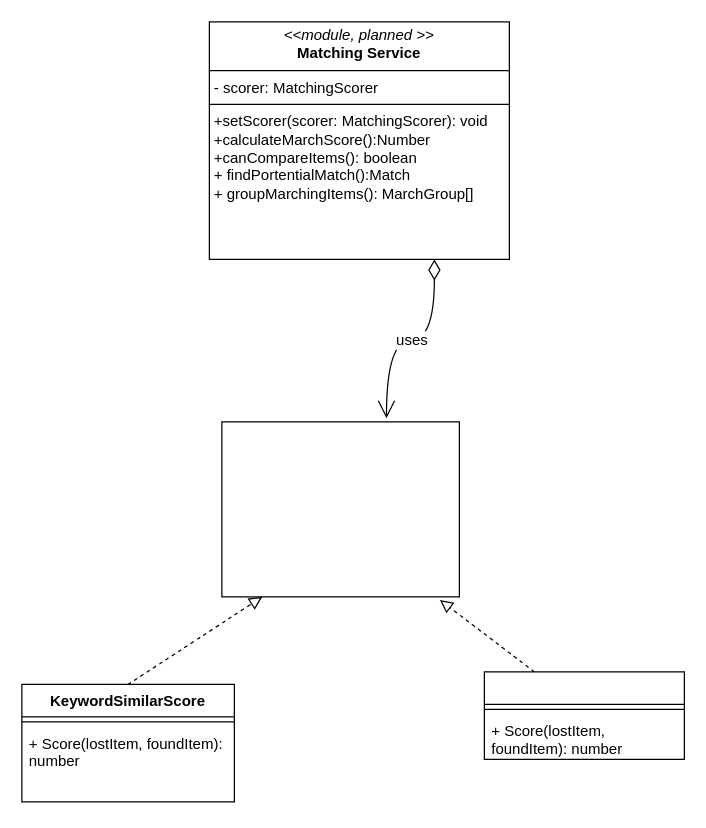
Some shapes in this 706 by 828 pixel diagram are drawn without their labels. The shapes that lost their labels are listed below. From the top down, each one's box as (x1, y1, x2, y2) in pixels, then its label:
(221, 421, 459, 597): <<Interface>> MatchingScorer + Score(lostItem, foundItem): number
(483, 671, 684, 759): AttributeScore
